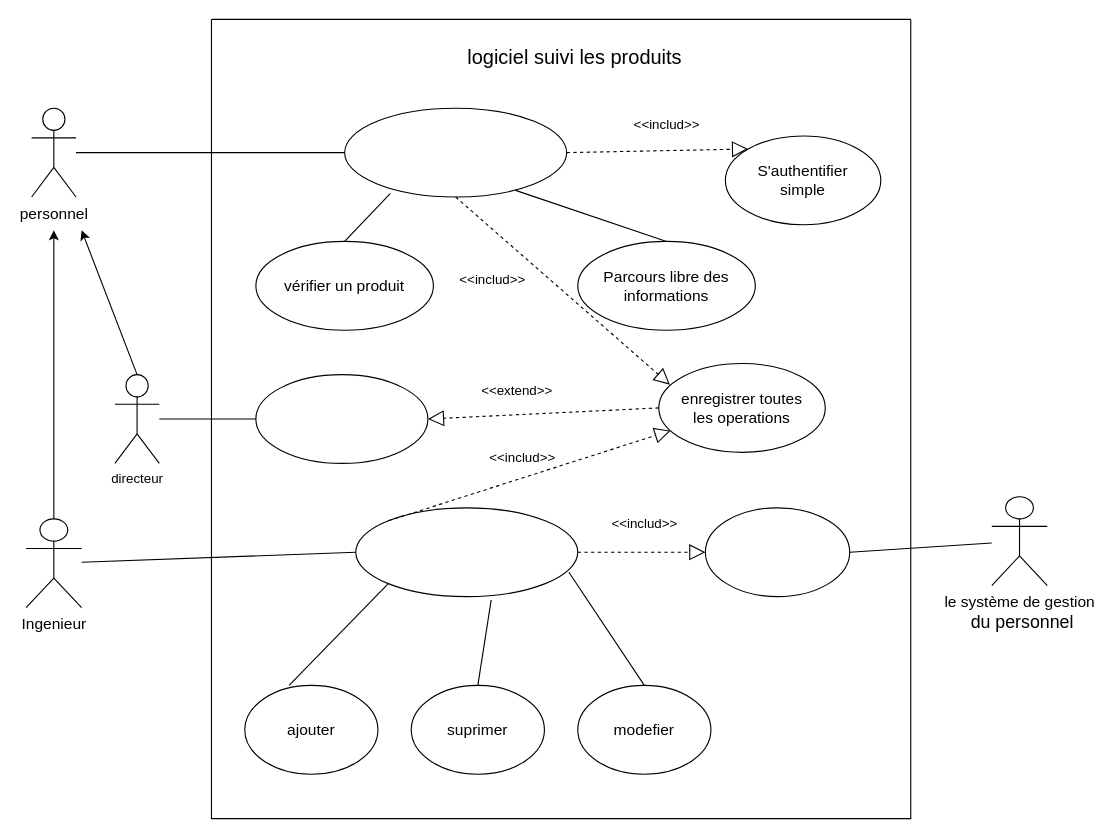
Some shapes in this 1113 by 838 pixel diagram are drawn without their labels. The shapes that lost their labels are listed below. From the top down, each one's box as (x1, y1, x2, y2) in pixels, then its label:
(344, 107, 567, 197): consulter le système
(255, 374, 428, 463): impression des documents
(355, 507, 578, 597): gerer les produits
(704, 507, 850, 597): S'authentifier plus approfondie
